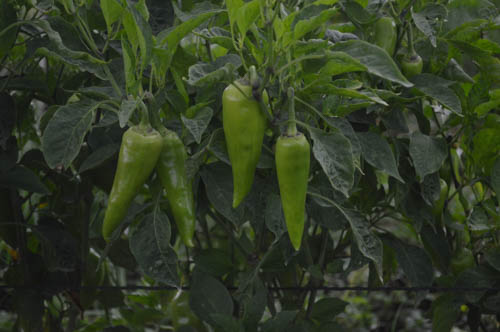ChiliPepper: (97, 127, 165, 237), (225, 81, 266, 208), (158, 133, 198, 246), (276, 132, 308, 250)
